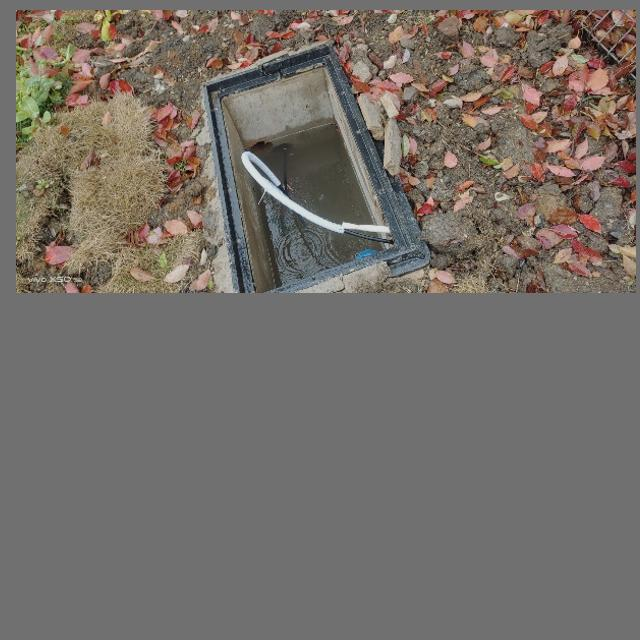lose: (203, 42, 434, 291)
